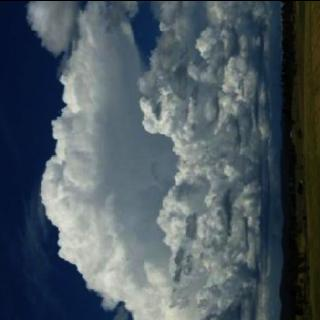Cumulus: (26, 0, 277, 320)
